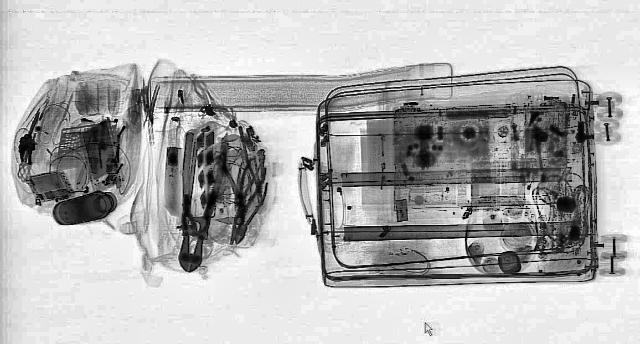Pliers: (170, 190, 218, 272), (222, 180, 270, 244)
